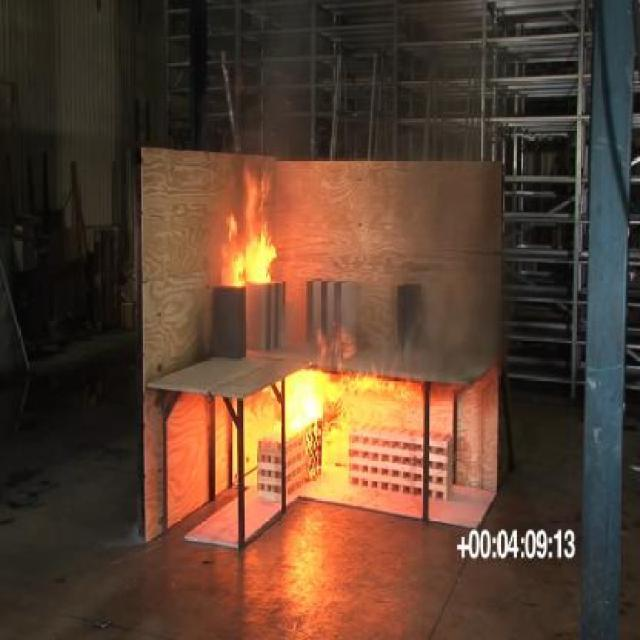Fire: (200, 334, 402, 484), (212, 156, 282, 296)
Smoke: (223, 21, 331, 142)
